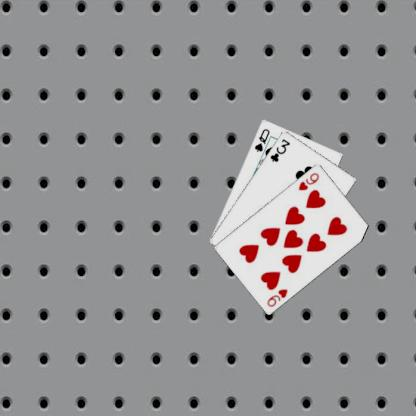3C: (268, 136, 292, 163)
9H: (296, 170, 320, 192), (265, 286, 289, 308)
QS: (252, 126, 271, 153)
